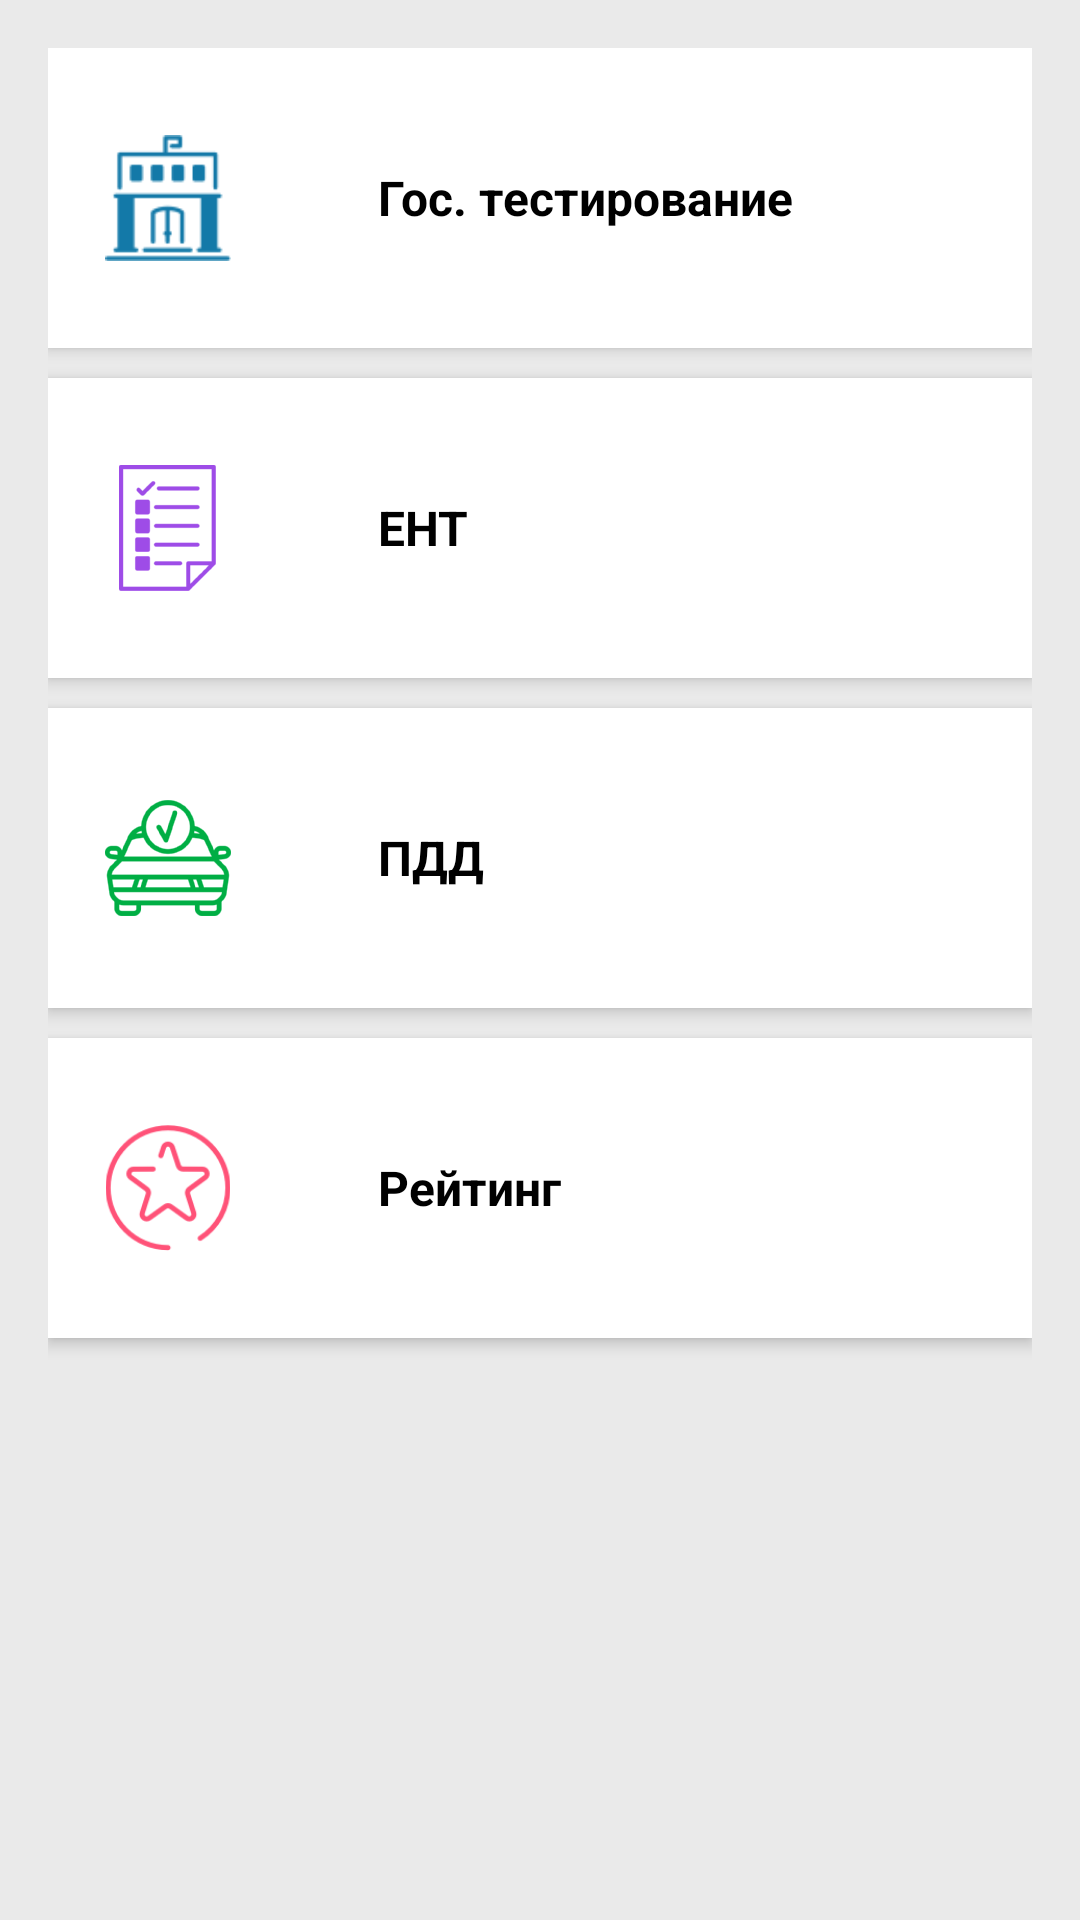

Where icons sit on this 1080x1920 app screen, as (x1, y1, x2, y2):
rating: (106, 1125, 230, 1251)
